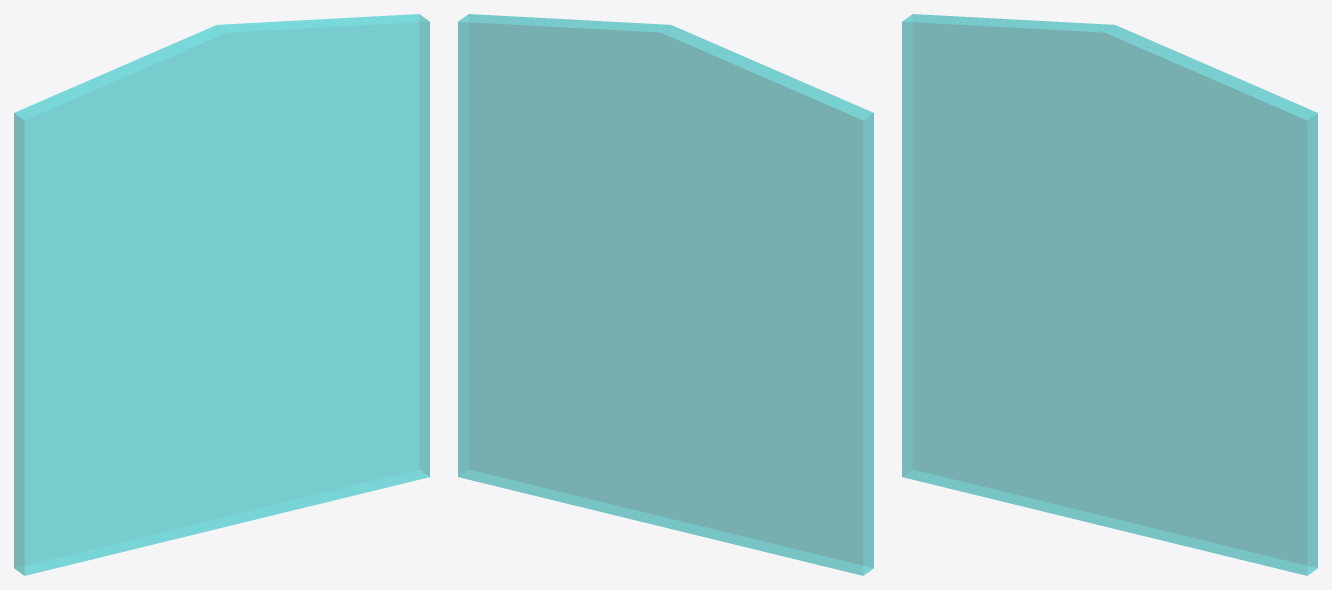
Rendered from SM_Bld_Wall_L_Gate_02_Door_01_Collision.fbx.
The picture shows the model from 3 angles, left to right: view 1: azimuth 30°, elevation 25°; view 2: azimuth 150°, elevation 25°; view 3: azimuth 330°, elevation 25°; orthographic projection.
Visible parts, largest first — view 1: SM_Bld_Wall_L_Gate_02_Door_01_Collision; view 2: SM_Bld_Wall_L_Gate_02_Door_01_Collision; view 3: SM_Bld_Wall_L_Gate_02_Door_01_Collision.
Part boxes in pixels (x1,y1,x2,y2): SM_Bld_Wall_L_Gate_02_Door_01_Collision: [14, 14, 429, 575]; SM_Bld_Wall_L_Gate_02_Door_01_Collision: [458, 14, 873, 575]; SM_Bld_Wall_L_Gate_02_Door_01_Collision: [902, 14, 1317, 575].
Size of the model in its own units: 667 by 776 by 29.89.
